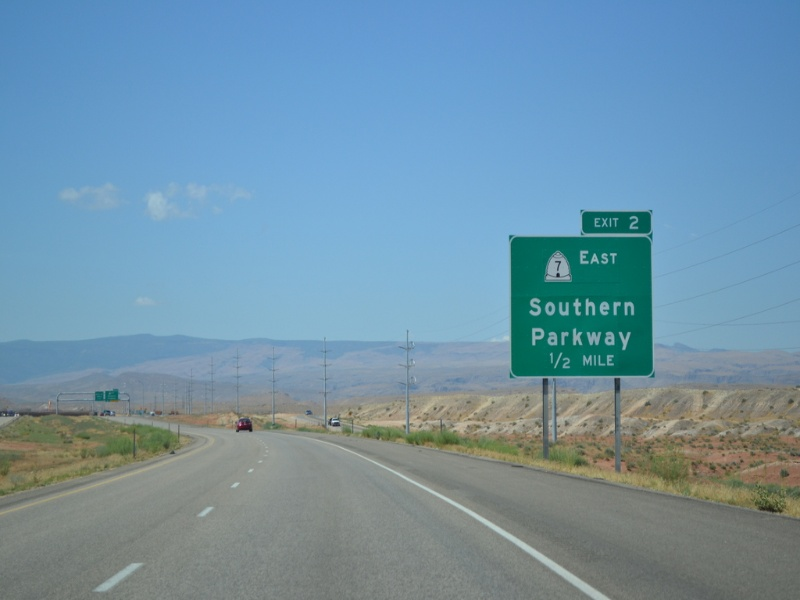exit: (577, 207, 656, 236)
